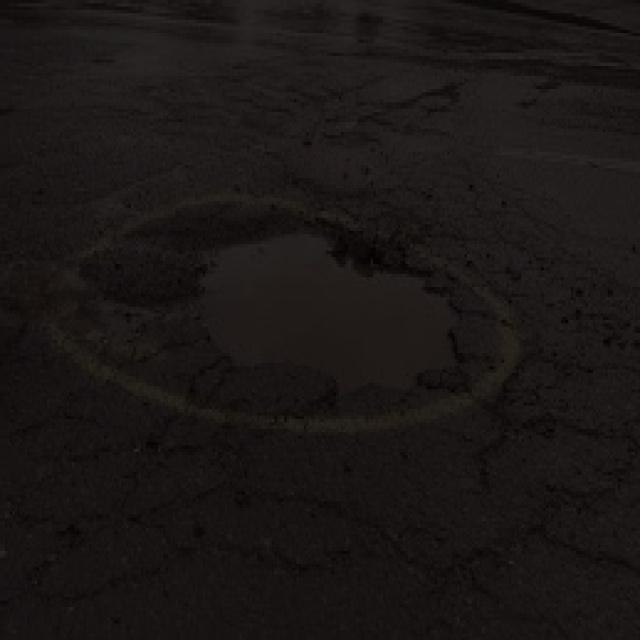Pothole: (111, 205, 478, 418)
